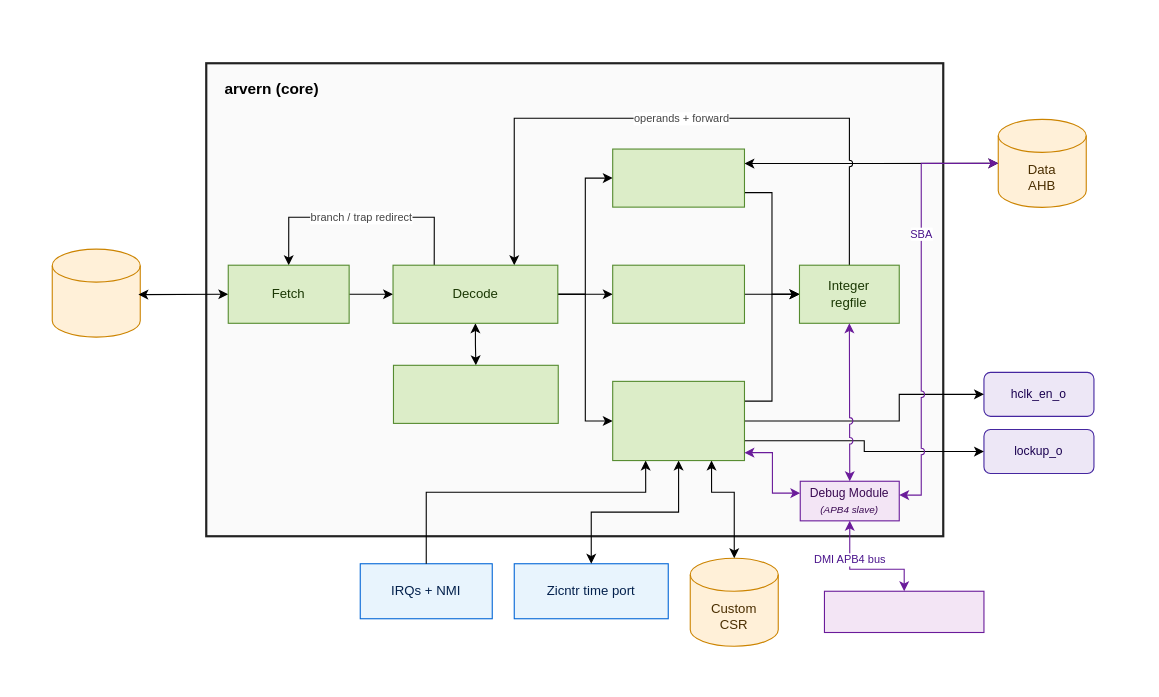
This 1159x697 diagram has some shape labels left out. Each missing label, with the box of its shape:
ALU (+ MUL / DIV): (612, 264, 744, 323)
arv_uop_sequencer (Zcmp / Zcmt expand): (392, 364, 558, 423)
CSR subsystem (traps / cntr / hpm / ids / trigger) + dcsr/dpc (debug): (612, 380, 744, 461)
DTM (APB4 master): (823, 590, 984, 632)
Instruction AHB: (51, 248, 140, 337)
LSU: (612, 148, 744, 207)
